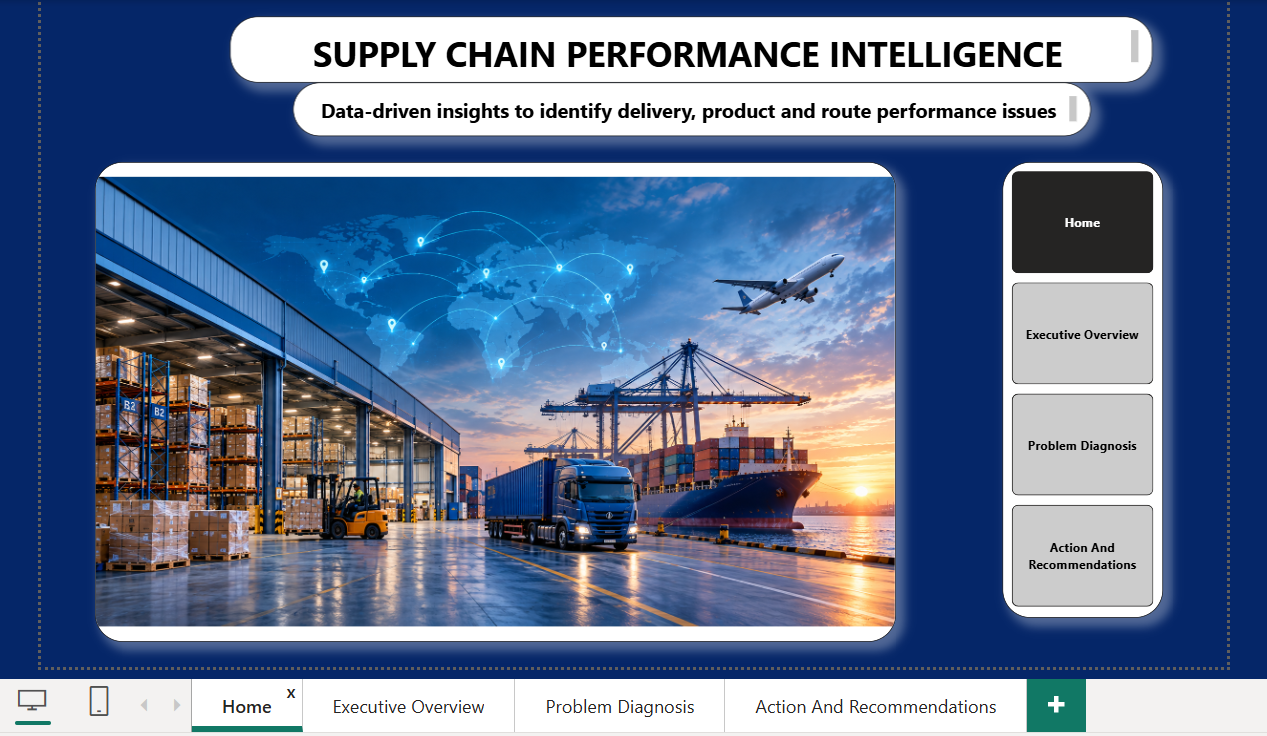

The page's visual inventory and layout, read from the dashboard file:
{"tool":"powerbi","page":{"name":"Home","canvas":[1280,720],"ordinal":0},"visuals":[{"type":"textbox","box":[204,17.8,995.8,71.2],"z":0},{"type":"image","box":[81,137.6,864.7,518.2],"z":2000},{"type":"pageNavigator","box":[1026.6,150.6,173.3,492.2],"z":3000}]}

Visuals, with their boxes on the page's 1280x720 design canvas (x1, y1, x2, y2). These are canvas units, not pixel positions in the 1267x736 screenshot, which may show the page scaled, cropped or inside an application window:
textbox: (204, 18, 1200, 89)
image: (81, 138, 946, 656)
pageNavigator: (1027, 151, 1200, 643)
